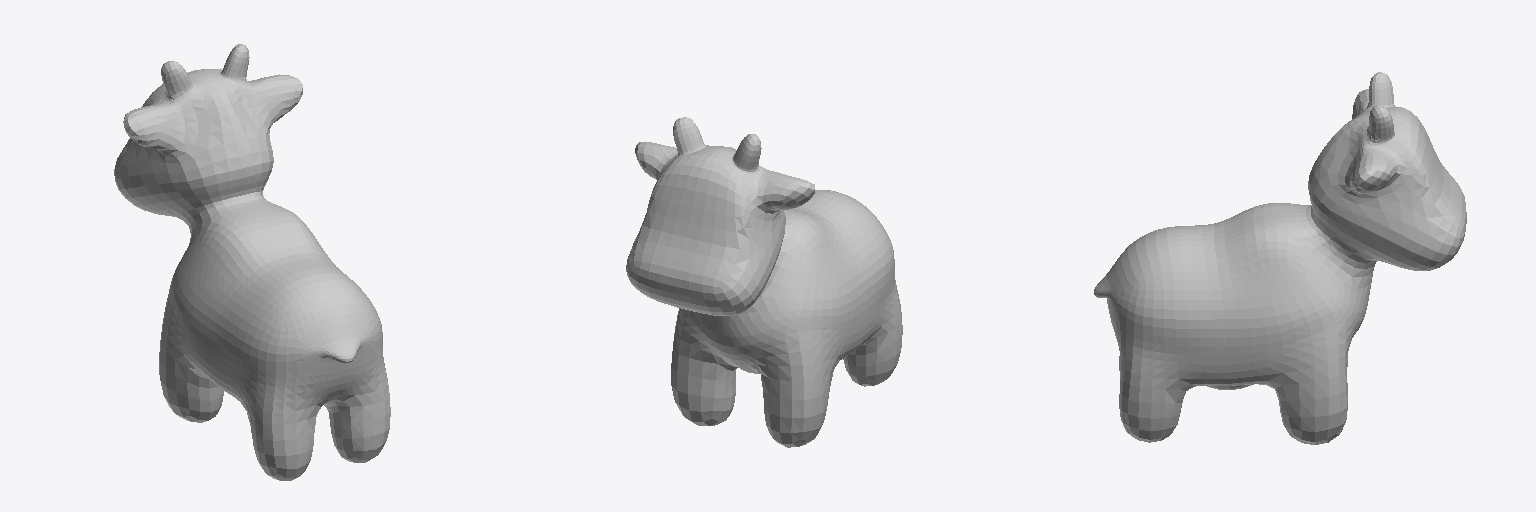
Rendered from spot~s21.obj.
The picture shows the model from 3 angles: view 1: azimuth 30°, elevation 25°; view 2: azimuth 150°, elevation 25°; view 3: azimuth 270°, elevation 25°; orthographic projection.
Bounding box in the file's own units: 19.78 × 35.45 × 36.02.